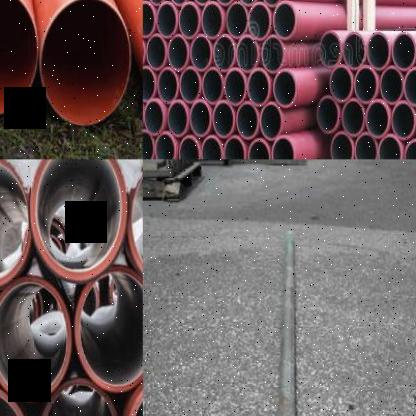pipe: (29, 160, 126, 280), (40, 0, 130, 125), (0, 276, 71, 400), (75, 266, 143, 392), (0, 0, 37, 115), (0, 159, 32, 289), (40, 378, 120, 416), (365, 99, 391, 139), (391, 100, 416, 141), (342, 97, 366, 138), (366, 31, 391, 70), (391, 31, 416, 70), (273, 69, 298, 108), (224, 67, 248, 107), (236, 100, 260, 140), (259, 101, 283, 141), (247, 2, 272, 40), (342, 31, 366, 70), (260, 35, 284, 74), (330, 64, 354, 103), (380, 66, 404, 105), (273, 1, 297, 39), (190, 34, 214, 72), (236, 35, 260, 73), (354, 66, 378, 104), (201, 1, 224, 40), (213, 34, 236, 73), (247, 68, 270, 107), (319, 30, 342, 68), (316, 96, 339, 134), (212, 100, 235, 138), (226, 0, 248, 39), (179, 1, 201, 39), (190, 99, 212, 137), (157, 0, 178, 39), (146, 33, 168, 70), (157, 67, 179, 104), (179, 67, 201, 104), (167, 100, 189, 137), (202, 67, 223, 105), (168, 34, 189, 71), (144, 99, 165, 136), (378, 134, 404, 160), (354, 132, 378, 160), (331, 132, 354, 160), (154, 132, 176, 160), (271, 136, 295, 160), (179, 134, 201, 160), (201, 134, 222, 160), (224, 136, 246, 160), (403, 66, 416, 106), (247, 138, 271, 159), (142, 0, 155, 38), (143, 66, 156, 102), (143, 130, 155, 160), (403, 138, 416, 159), (260, 0, 284, 7), (237, 0, 260, 7), (214, 0, 237, 6), (169, 0, 190, 6), (190, 0, 214, 5), (146, 0, 168, 5)
